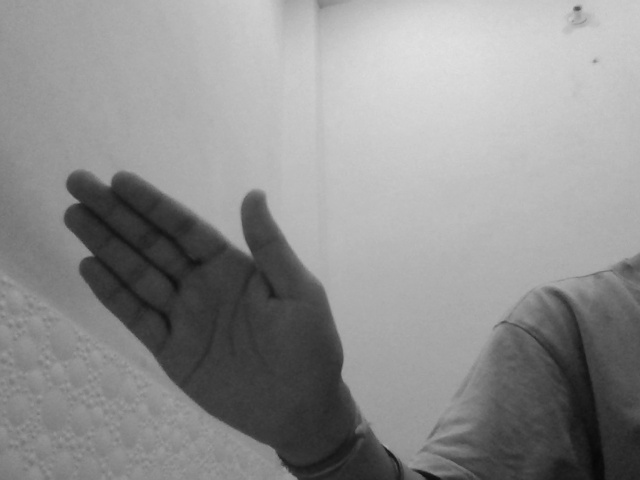Hello: (58, 163, 344, 451)
